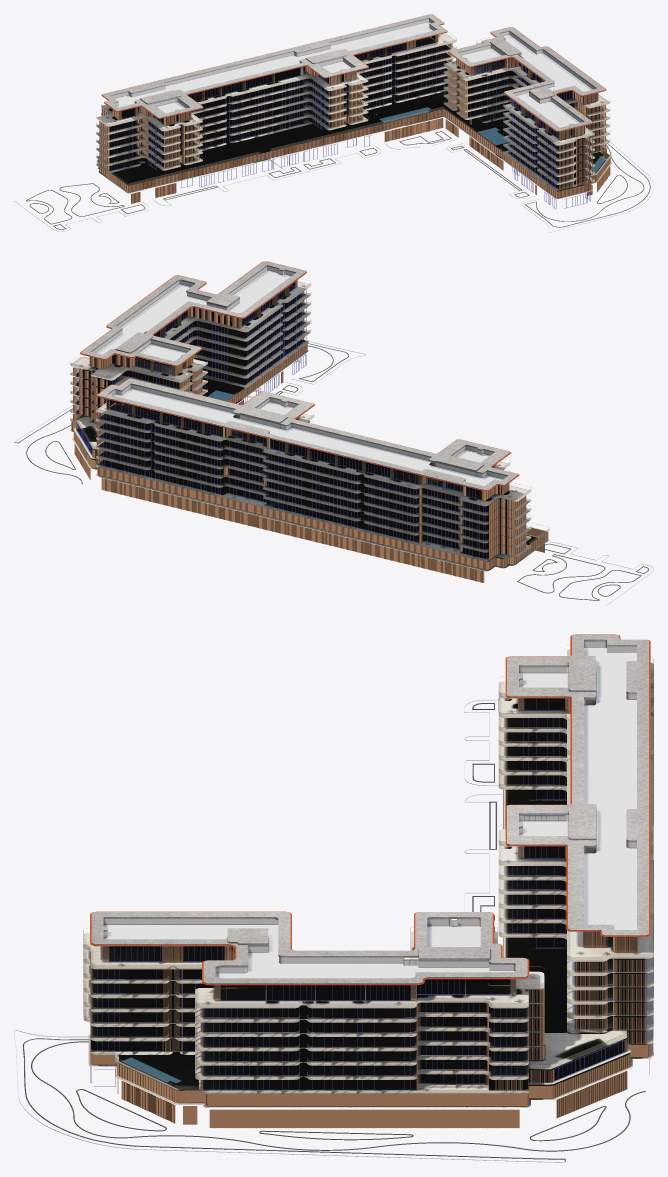
Rendered from MAG_11_build_C_1.glb.
The picture shows the model from 3 angles, top to bottom: view 1: azimuth 30°, elevation 25°; view 2: azimuth 150°, elevation 25°; view 3: azimuth 270°, elevation 25°; orthographic projection. The views are drawn at different scales.
Parts seen in each view (by area): view 1: C_Build_1; view 2: C_Build_1; view 3: C_Build_1.
Part boxes in pixels (left/top/right/bottom): C_Build_1: left=14, top=14, right=653, bottom=232; C_Build_1: left=14, top=261, right=653, bottom=605; C_Build_1: left=14, top=634, right=653, bottom=1162.
Bounding box in the file's own units: 290 × 42.73 × 170.
9 materials, 1 textured.
